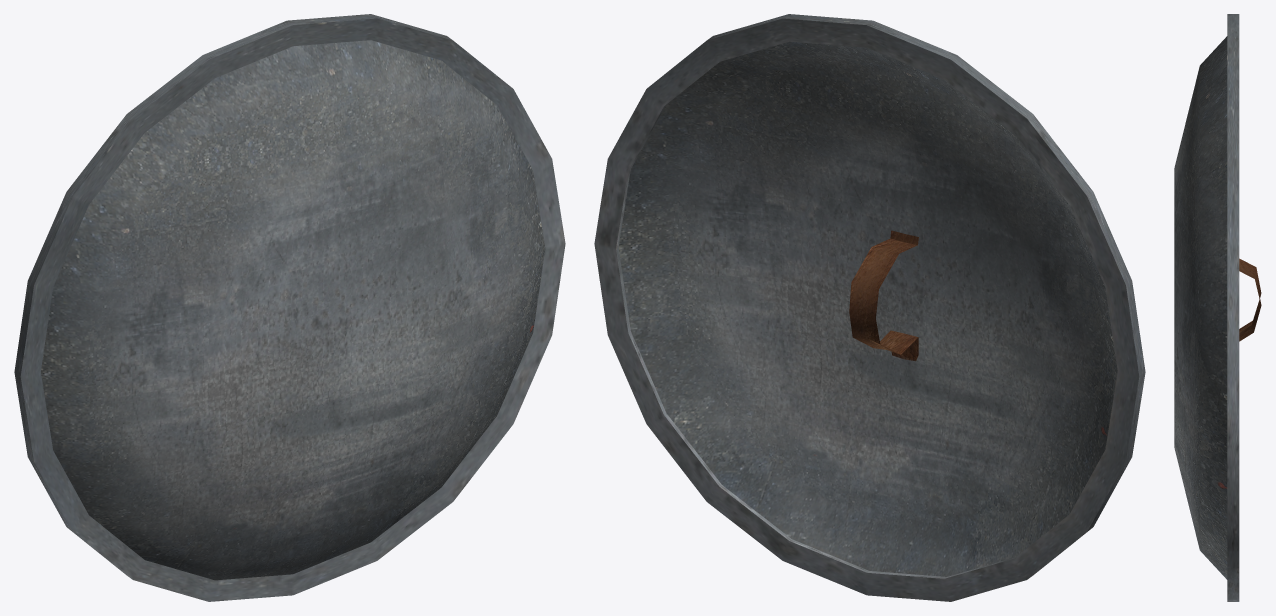
The model's file is shield.fbx.
The picture shows the model from 3 angles, left to right: view 1: azimuth 30°, elevation 25°; view 2: azimuth 150°, elevation 25°; view 3: azimuth 270°, elevation 25°; orthographic projection. The views are drawn at different scales.
Parts seen in each view (by area): view 1: shield; view 2: shield; view 3: shield.
Part boxes in pixels (<box>): shield: <box>14,14,565,601</box>; shield: <box>594,14,1145,601</box>; shield: <box>1174,14,1261,601</box>.
Bounding box in the file's own units: 1.26 × 1.26 × 0.1852.
